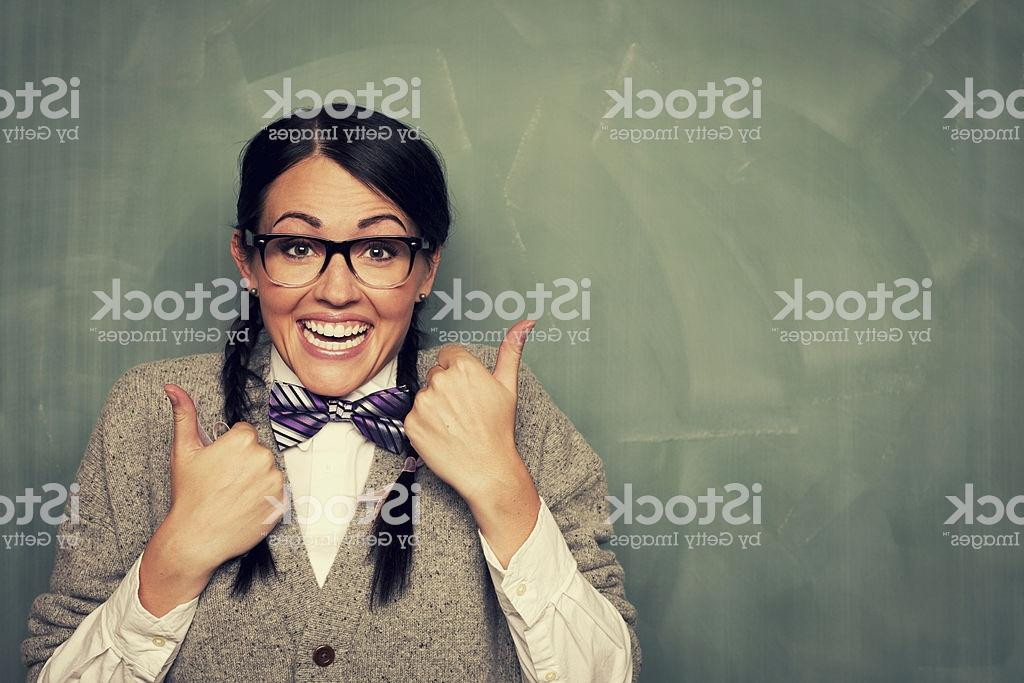thumbsup: (403, 317, 538, 448), (164, 382, 290, 520)
